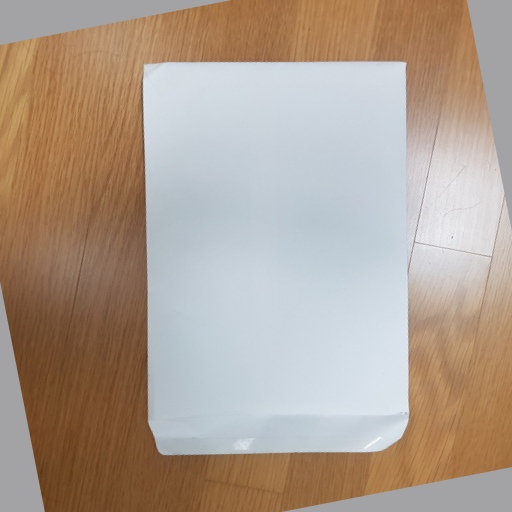Paper_2: (140, 59, 418, 458)
